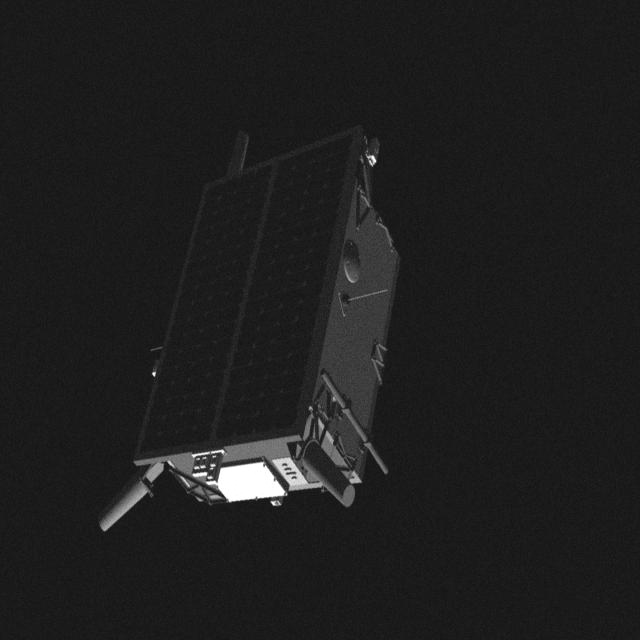medium_debris: (96, 110, 398, 540)
